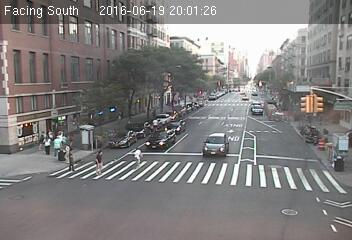neg: (232, 85, 250, 109), (256, 80, 272, 102), (125, 63, 141, 85), (142, 116, 157, 136), (193, 92, 208, 112), (184, 67, 198, 85)
pos: (87, 148, 108, 176), (128, 143, 148, 170), (50, 134, 68, 159), (63, 151, 79, 173), (39, 134, 55, 154)
